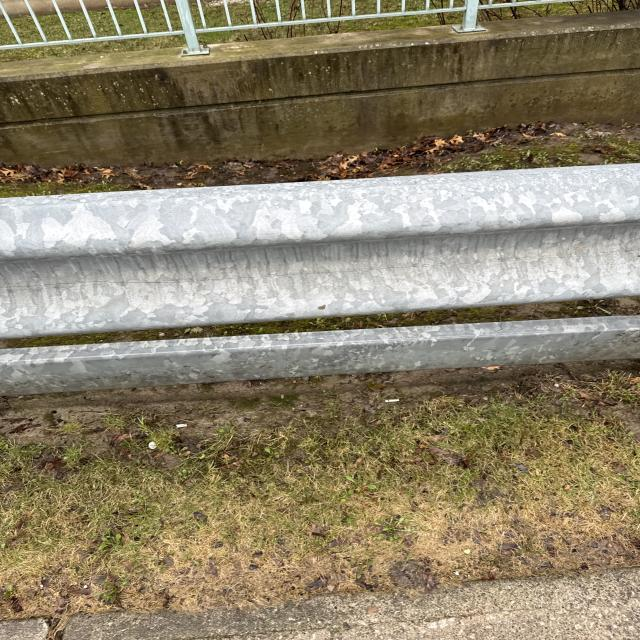Guard rail: (21, 176, 635, 326)
